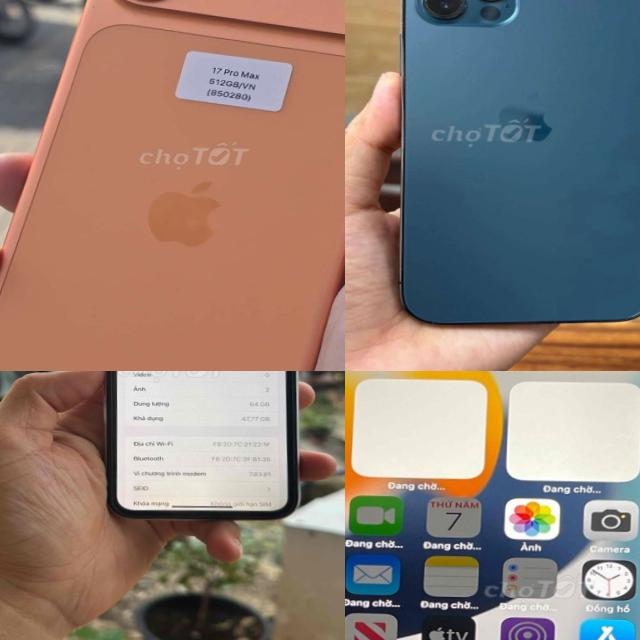gen_12_13: (392, 0, 640, 327)
gen_17: (0, 0, 345, 371)
gen_7_8: (345, 371, 640, 640)
gen_x_xs: (104, 371, 300, 520)
